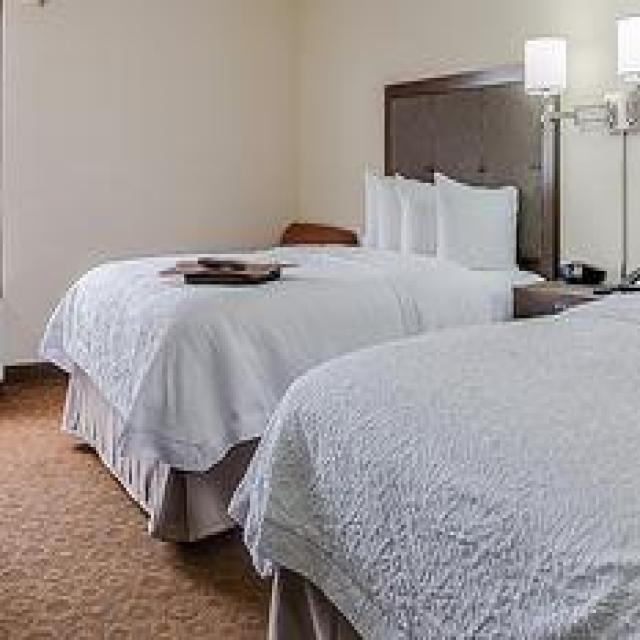bed: (36, 58, 560, 542)
